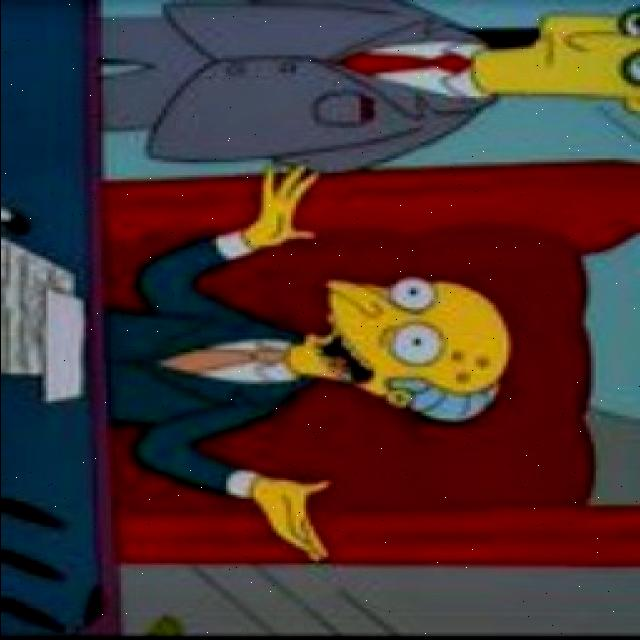Charles Montgomery Burns: (281, 276, 509, 424)
